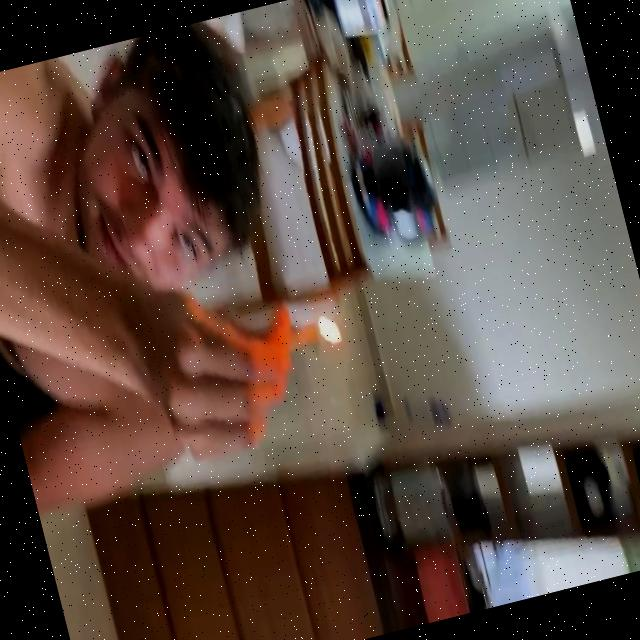fire: (314, 309, 343, 346)
